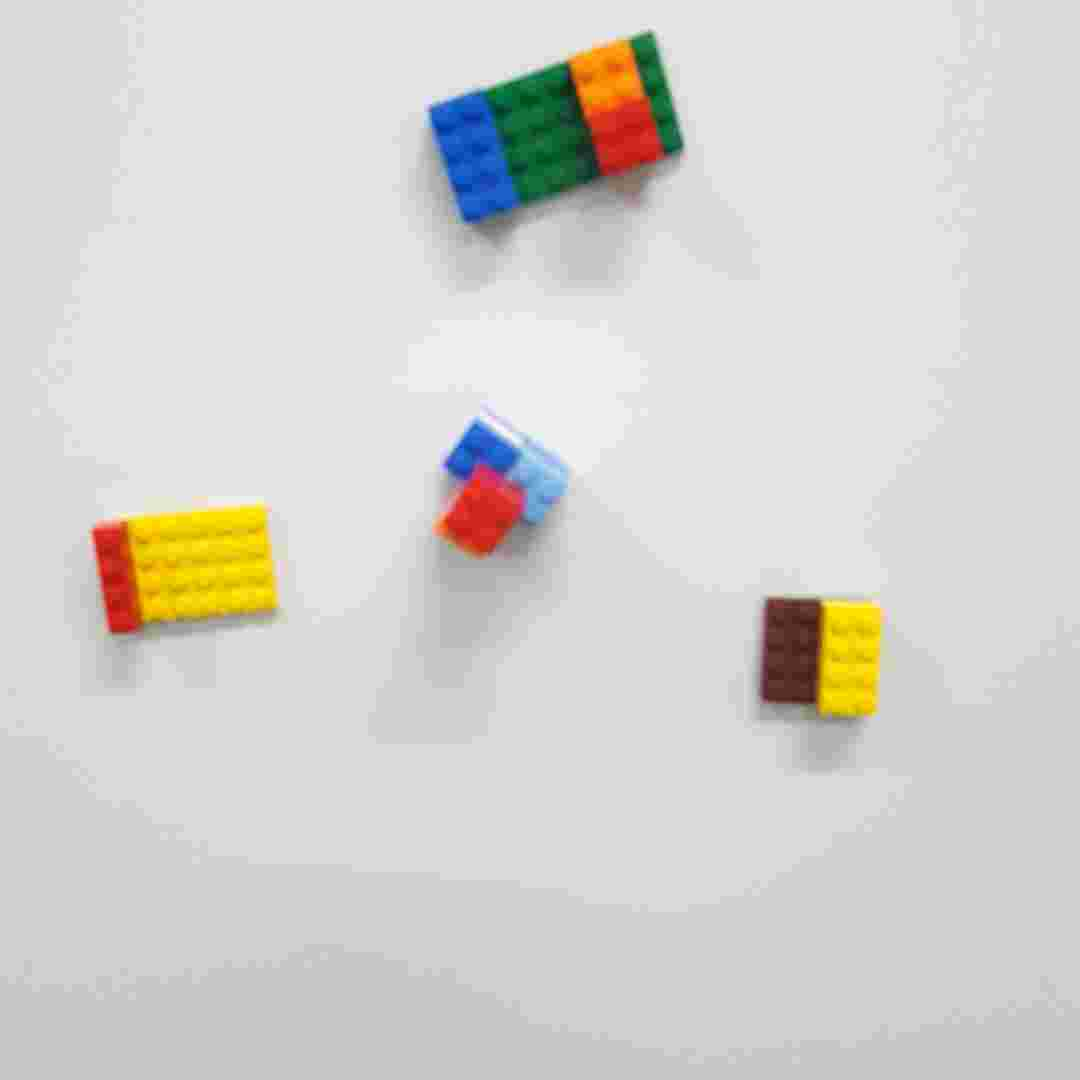LEGO: (423, 29, 690, 228), (92, 498, 283, 638), (435, 407, 569, 561), (758, 593, 886, 723)
